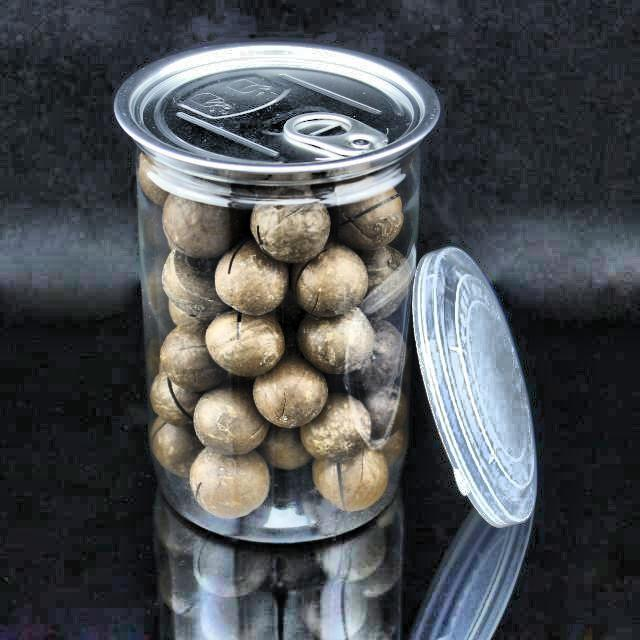can: (107, 22, 454, 217)
